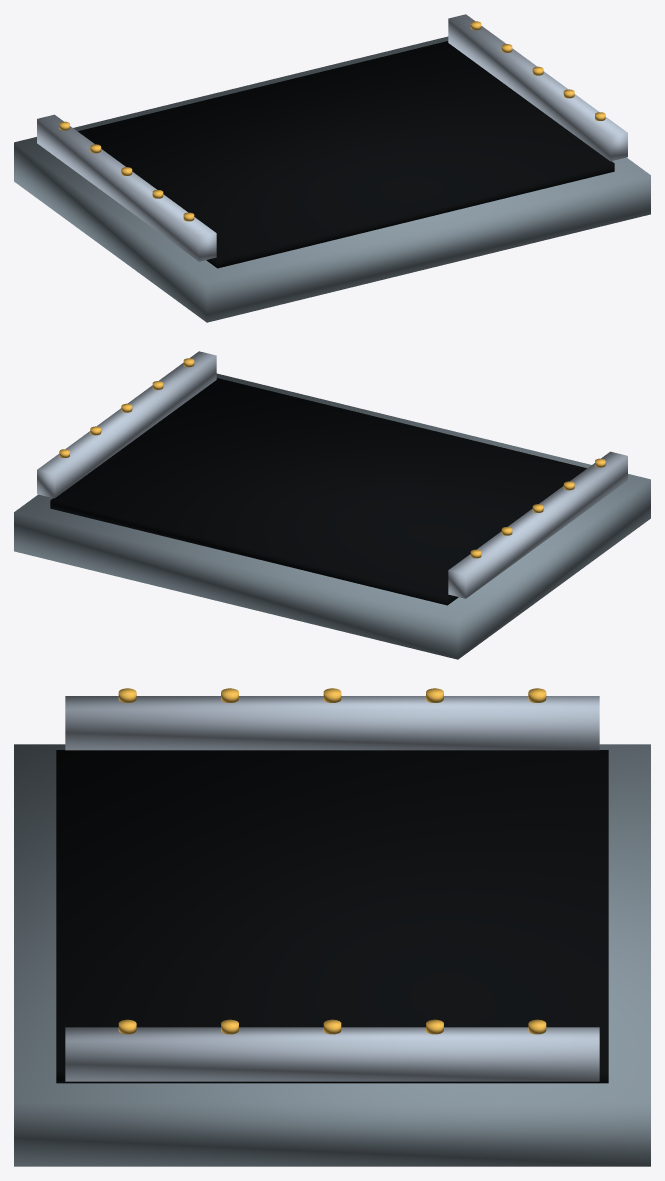
Rendered from 02_L94_PrecisionFixtureBase.fbx.
The picture shows the model from 3 angles, top to bottom: view 1: azimuth 30°, elevation 25°; view 2: azimuth 150°, elevation 25°; view 3: azimuth 270°, elevation 25°; orthographic projection. The views are drawn at different scales.
Visible parts, largest first — view 1: L94_PrecisionFixtureBase; view 2: L94_PrecisionFixtureBase; view 3: L94_PrecisionFixtureBase.
Part boxes in pixels (left/top/right/bottom): L94_PrecisionFixtureBase: left=14, top=14, right=650, bottom=322; L94_PrecisionFixtureBase: left=14, top=351, right=650, bottom=659; L94_PrecisionFixtureBase: left=14, top=688, right=650, bottom=1166.
Bounding box in the file's own units: 190 × 32.2 × 143.
